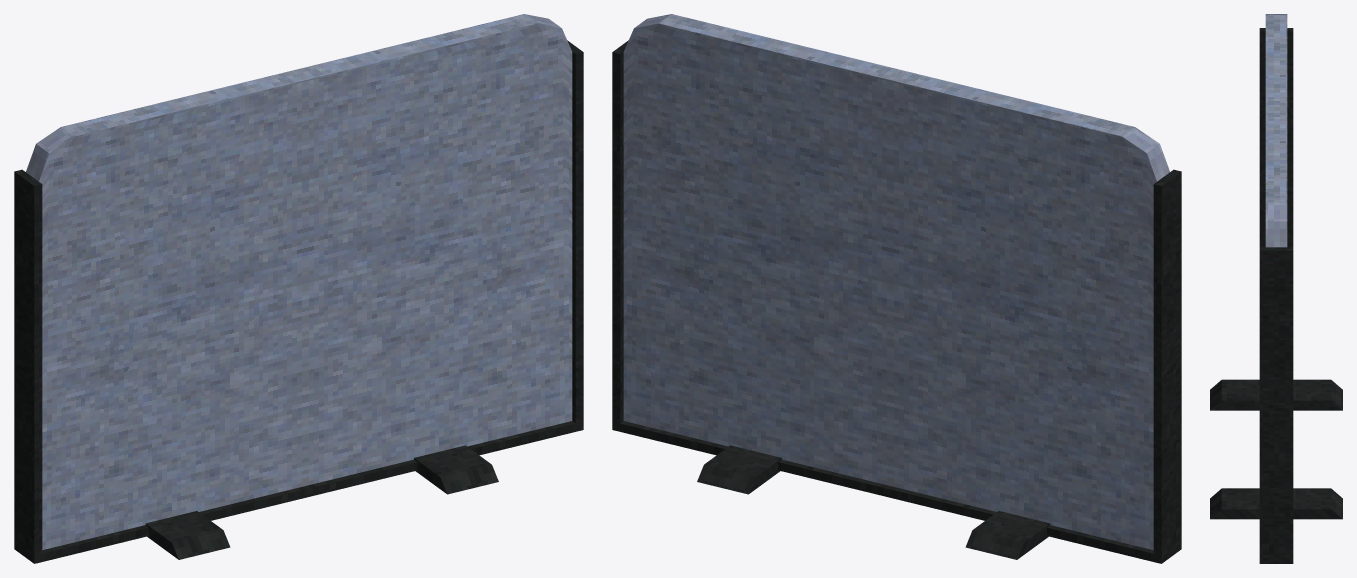
Rendered from divider_black_blue_low_half.glb.
3 renders of one model, left to right at view 1: azimuth 30°, elevation 25°; view 2: azimuth 150°, elevation 25°; view 3: azimuth 270°, elevation 25°, orthographic. The views are drawn at different scales.
Parts seen in each view (by area): view 1: divider_black_blue_low_half; view 2: divider_black_blue_low_half; view 3: divider_black_blue_low_half.
Part boxes in pixels (x1,y1,x2,y2): divider_black_blue_low_half: (14, 14, 583, 563); divider_black_blue_low_half: (612, 14, 1181, 563); divider_black_blue_low_half: (1210, 14, 1342, 563).
Bounding box in the file's own units: 2.07 × 1.5 × 0.523.
Materials: 1 (1 with a texture image).
